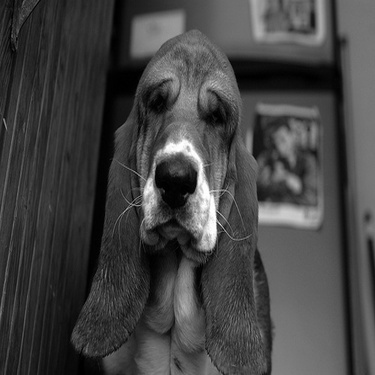dog: (63, 25, 280, 373)
